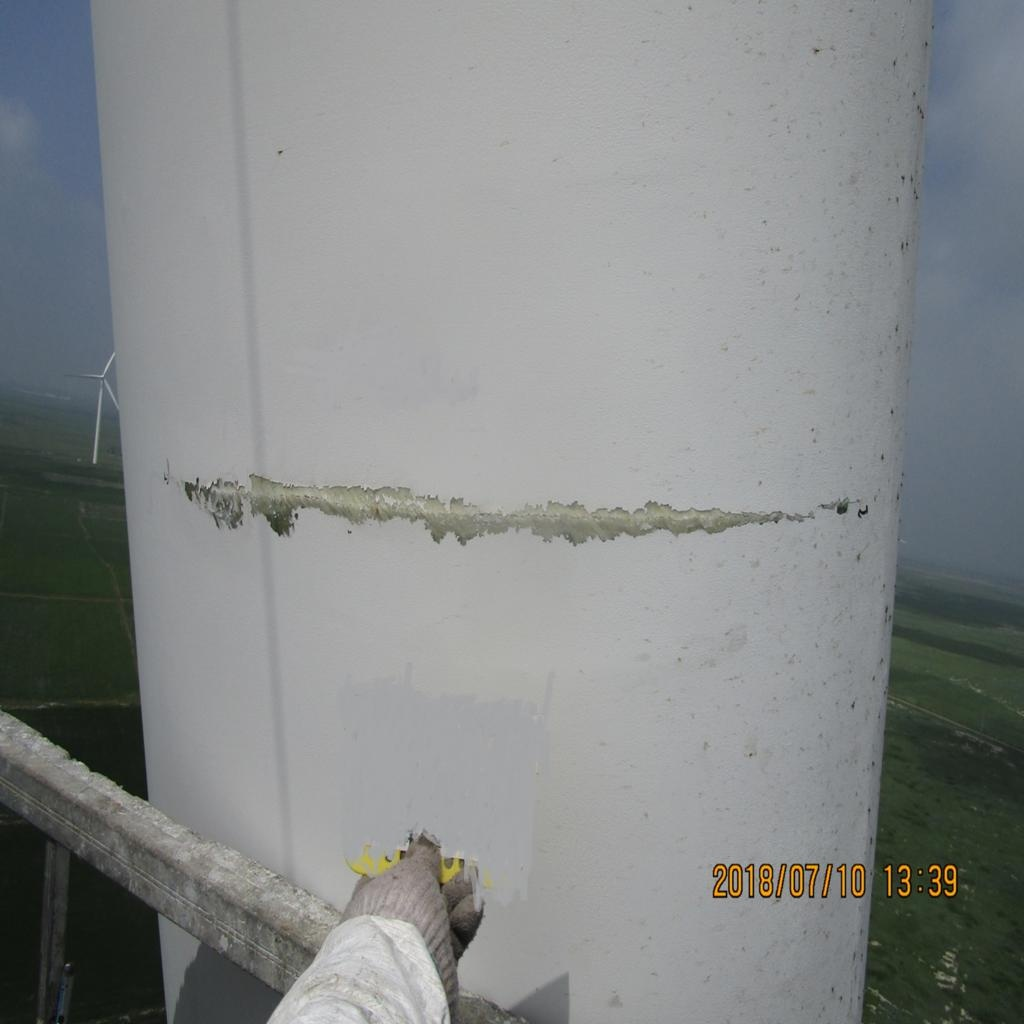corrosion: (158, 458, 802, 557)
